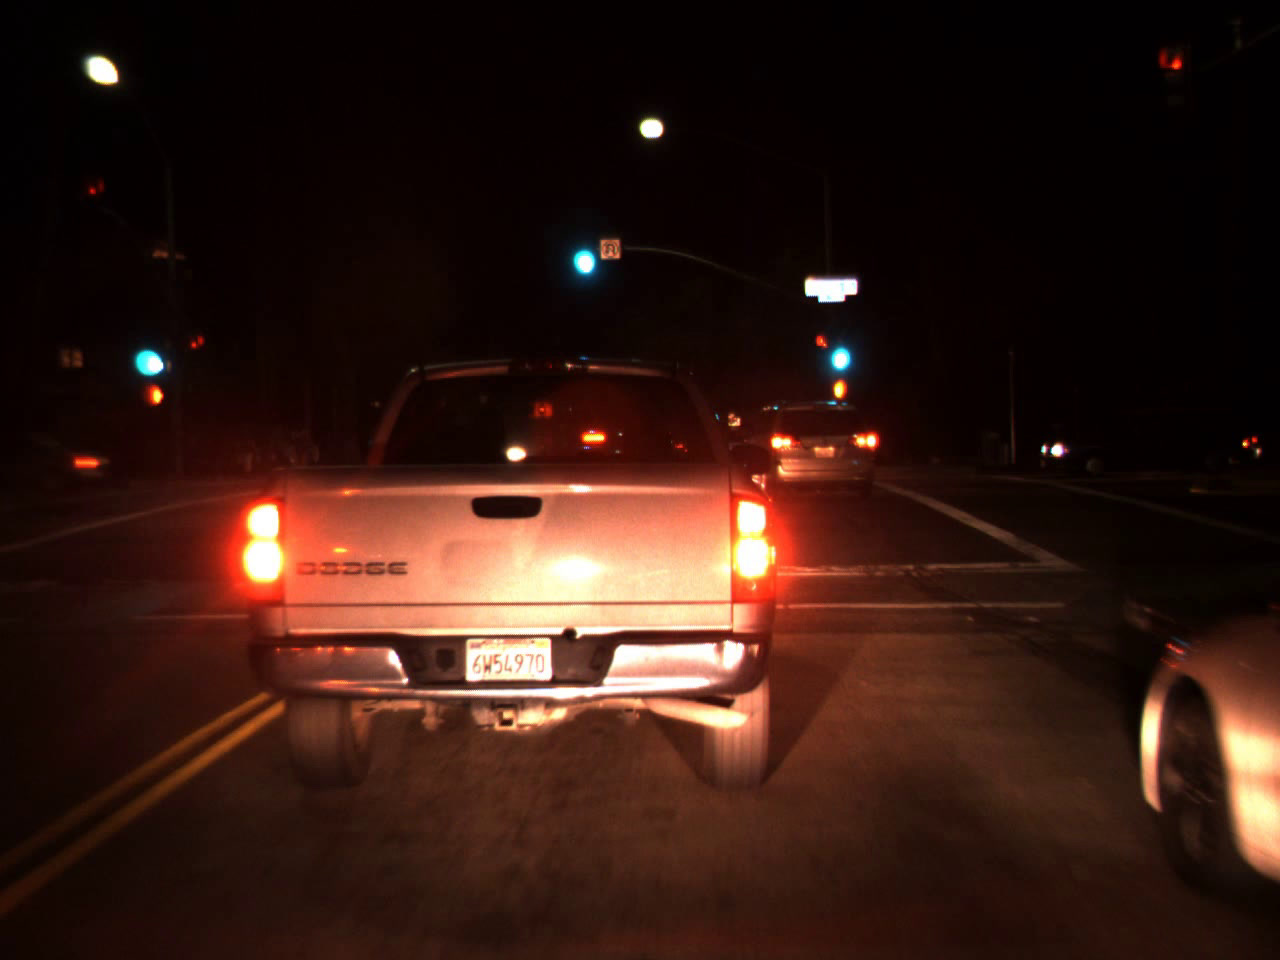go: (127, 315, 163, 387), (564, 218, 600, 284), (823, 317, 855, 380)
